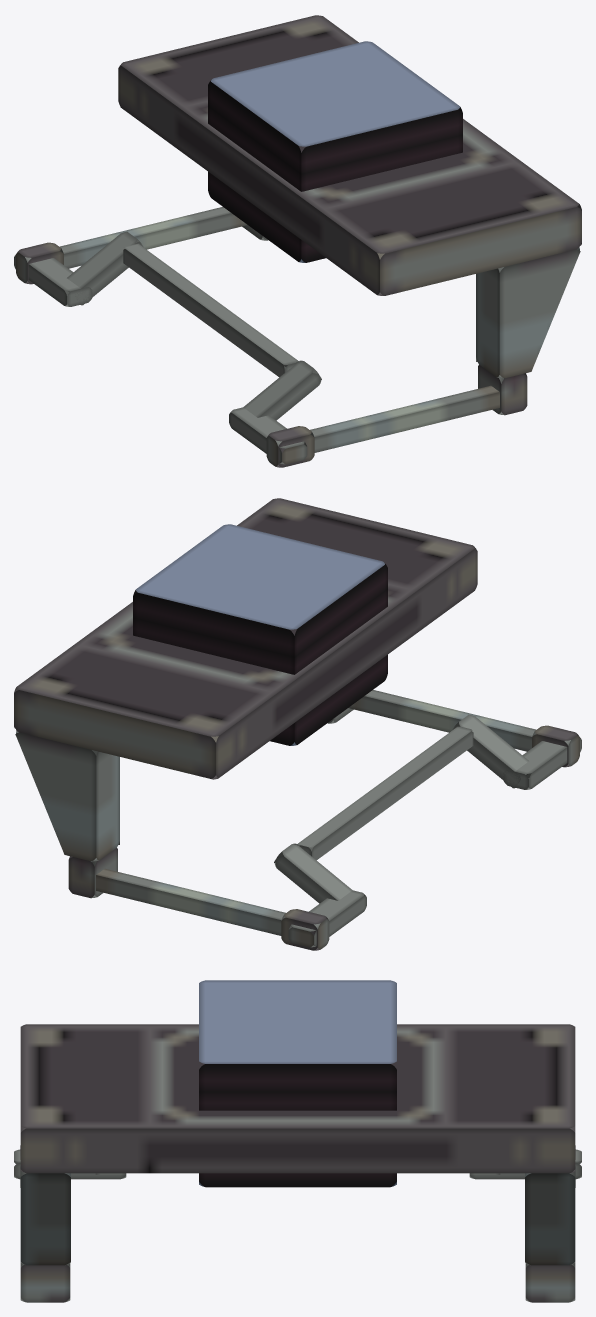
File: ss3_top.obj
3 renders of one model, top to bottom at view 1: azimuth 30°, elevation 25°; view 2: azimuth 150°, elevation 25°; view 3: azimuth 270°, elevation 25°, orthographic. The views are drawn at different scales.
Parts seen in each view (by area): view 1: top; view 2: top; view 3: top.
Part boxes in pixels (x1=…): top: x1=14, y1=15, x2=581, y2=467; top: x1=14, y1=498, x2=581, y2=950; top: x1=14, y1=980, x2=581, y2=1302.
Size of the model in its own units: 1.88 by 1.39 by 2.87.
